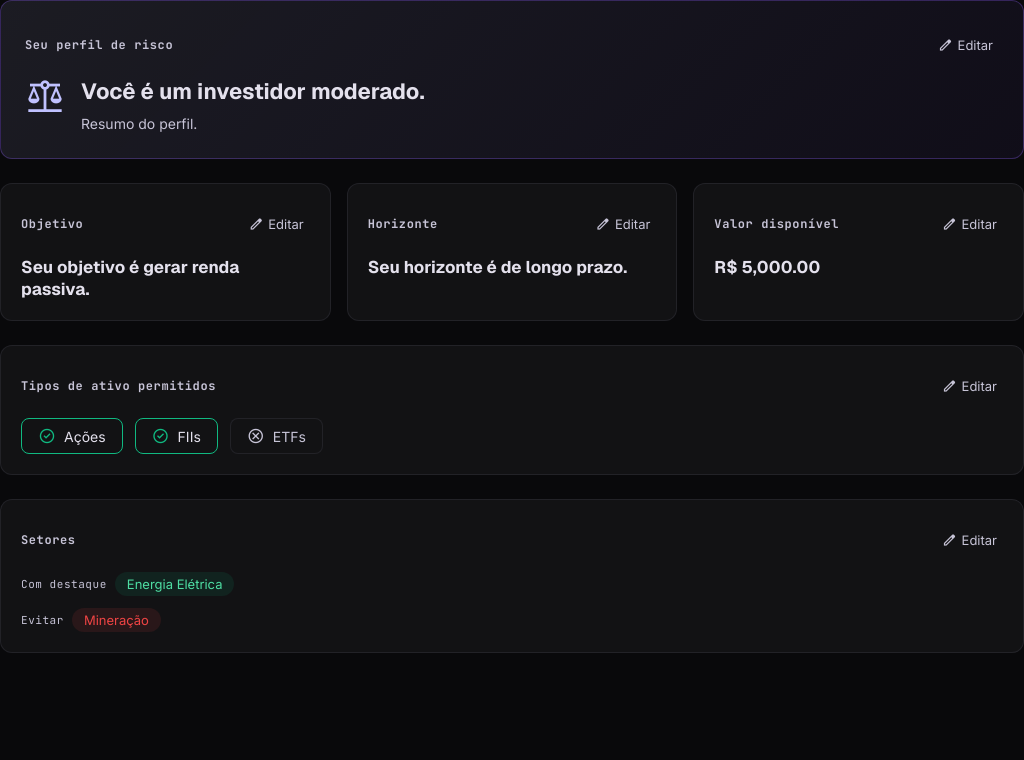
it: PreferenciasPerfilComponent › o editor de escolha deve começar com a opção atual marcada e explicar cada opção
Click the 3rd button with class "campo-editavel__editar".
click(623, 224)  # box x1=589 y1=204 x2=656 y2=244
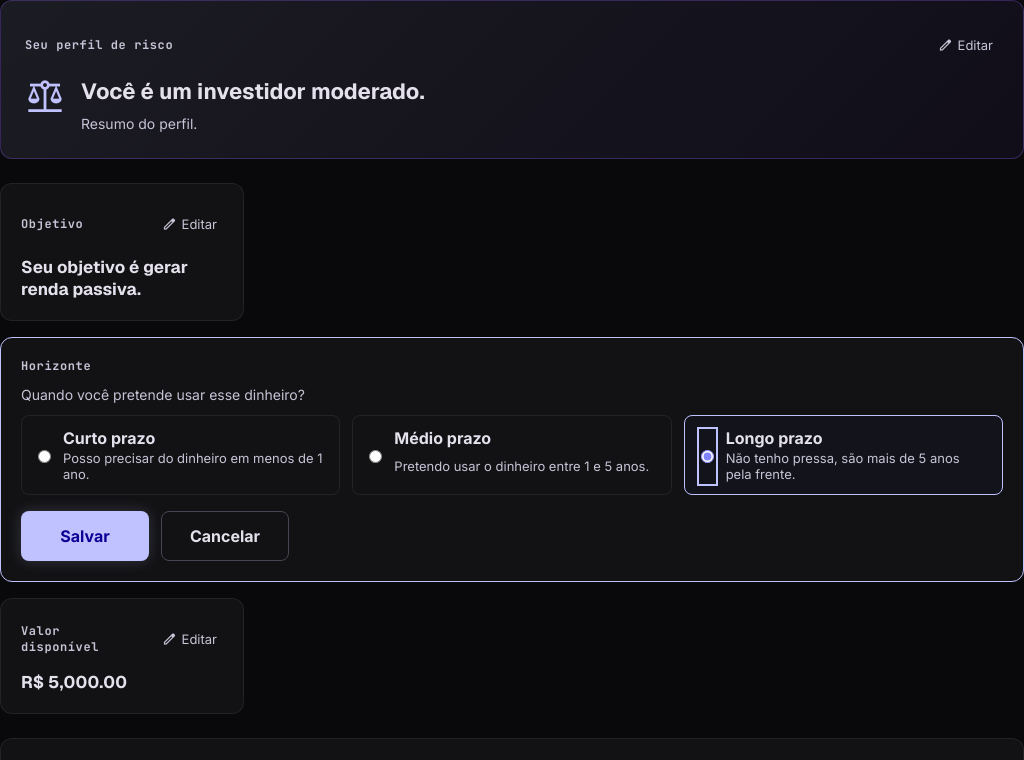
Check: the 3rd radio button is checked, box x1=701 y1=431 x2=714 y2=482
Check: the text "Quando você pretende usar esse dinheiro?" is shown, box x1=21 y1=386 x2=305 y2=403
Check: the element that starts with "Horizonte" shows "Pretendo usar o dinheiro entre 1 e 5 anos.", box x1=394 y1=458 x2=649 y2=474
